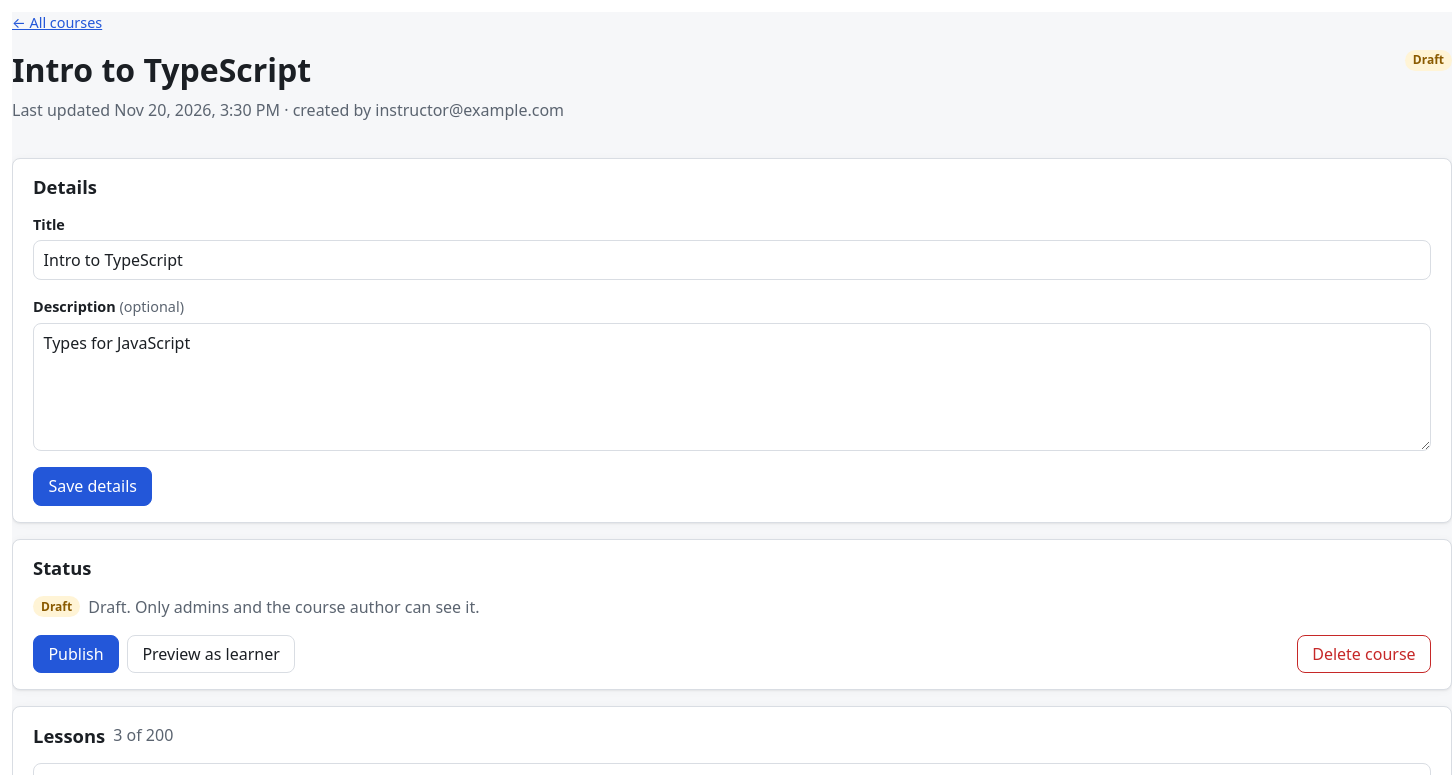
EditCoursePage › publishes a course that has lessons
This screenshot has width=1452, height=775.
Step 1. Click the button "Publish" → [76, 654], box 33,635 -> 119,673
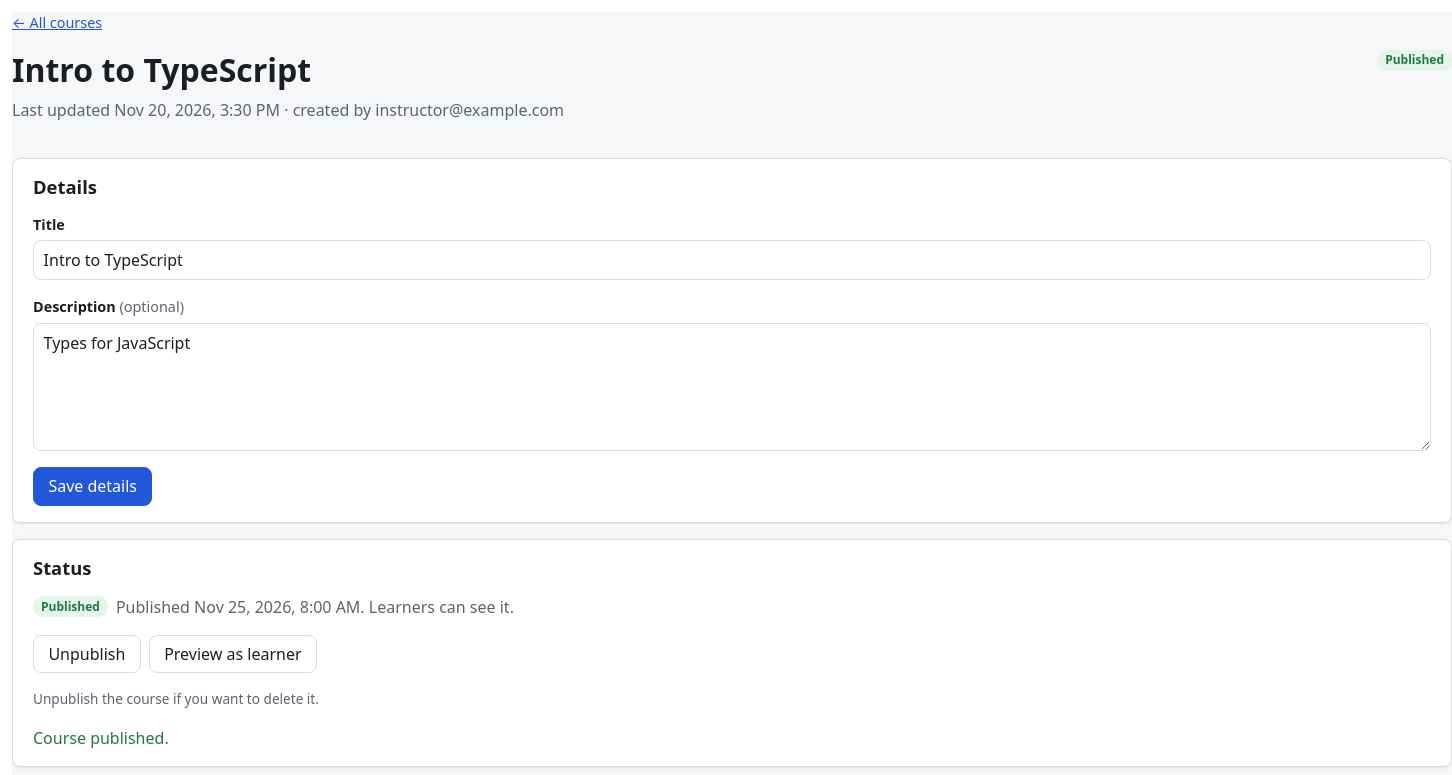
Now the text "Course published." is shown, box 33,727 -> 169,749
Now the button "Unpublish" is shown, box 33,635 -> 141,673
Now the button "Delete course" is gone
